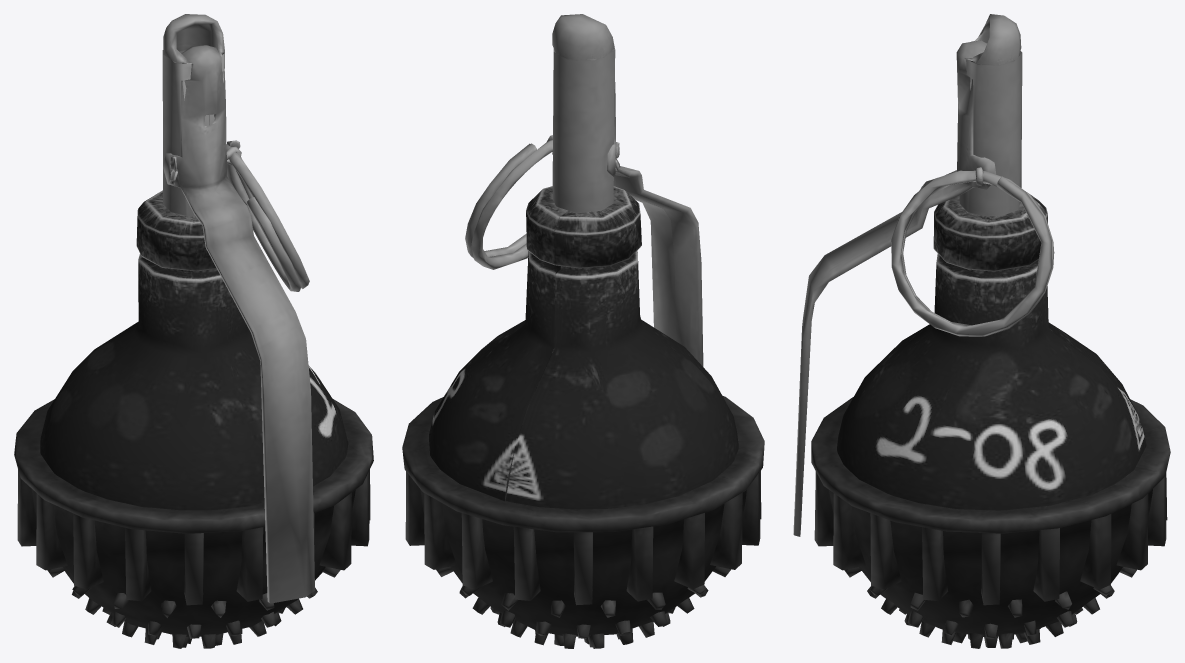
Rendered from Grenade_Flash.fbx.
3 renders of one model, left to right at view 1: azimuth 30°, elevation 25°; view 2: azimuth 150°, elevation 25°; view 3: azimuth 270°, elevation 25°, orthographic.
Parts seen in each view (by area): view 1: GunMesh; view 2: GunMesh; view 3: GunMesh.
Part boxes in pixels (box(x1,y1,x2,y2)): GunMesh: box(14, 14, 373, 648); GunMesh: box(402, 14, 764, 648); GunMesh: box(793, 14, 1170, 648).
Bounding box in the file's own units: 0.0796 × 0.1501 × 0.0836.
1 material, 1 textured.
